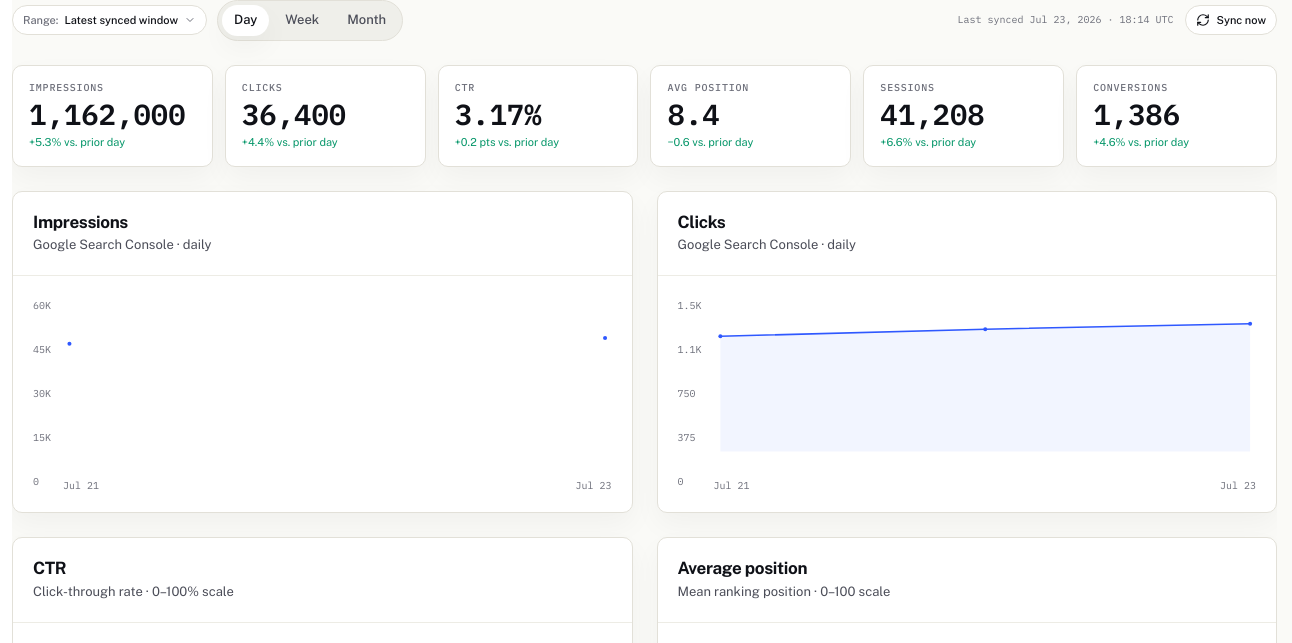
Test case: TrafficScreen — sync now › surfaces a notice when the project has no active mapped connection to sync
Expected: the element with test id "traffic-stats" is shown, [12,65,1277,167]
Click the button with test id "sync-now-button" at (1231, 20), box [1185,5,1277,35]
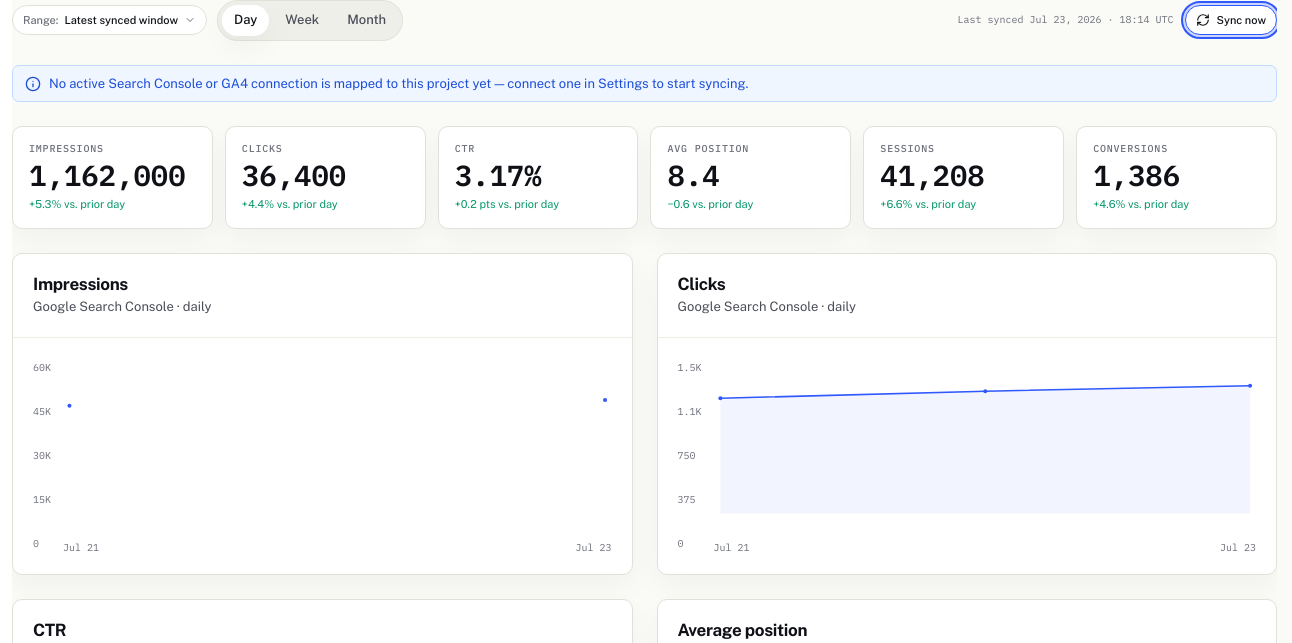
Expected: the text "No active Search Console or GA4 connection is mapped" is shown, [49,76,748,91]
